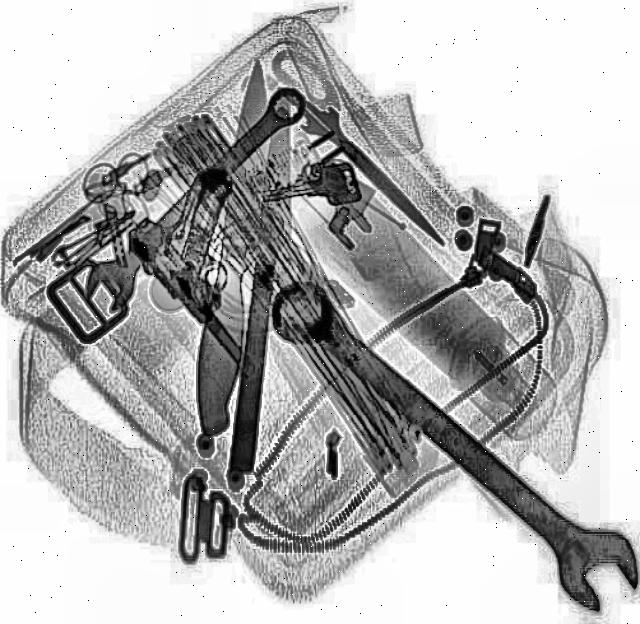Gun: (118, 166, 336, 380)
Knife: (192, 61, 290, 439), (288, 92, 460, 258), (231, 103, 305, 477)
Wrench: (256, 272, 640, 608), (71, 79, 325, 325)
